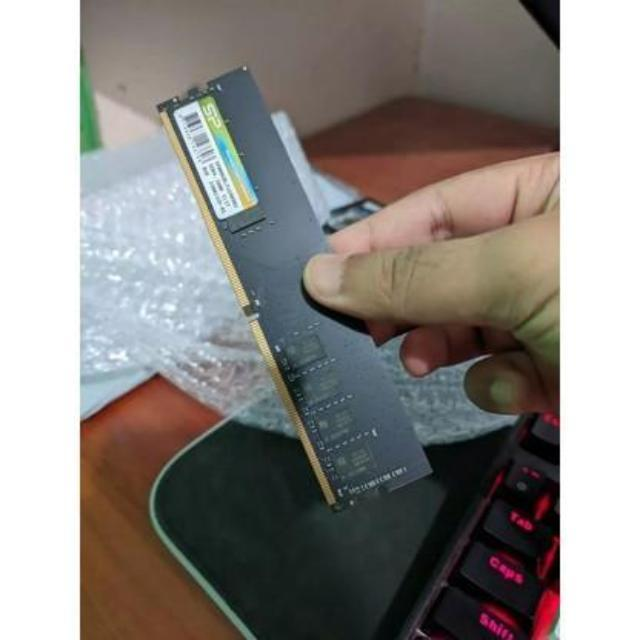RAM: (154, 62, 446, 518)
